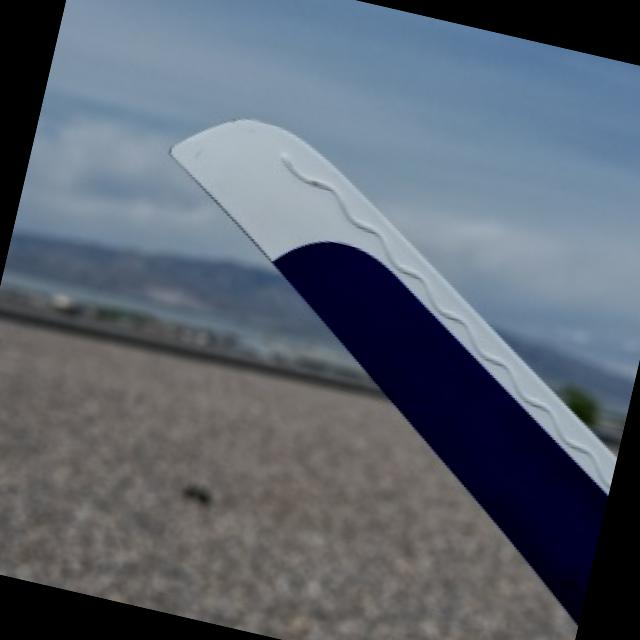healthy: (168, 116, 615, 620)
